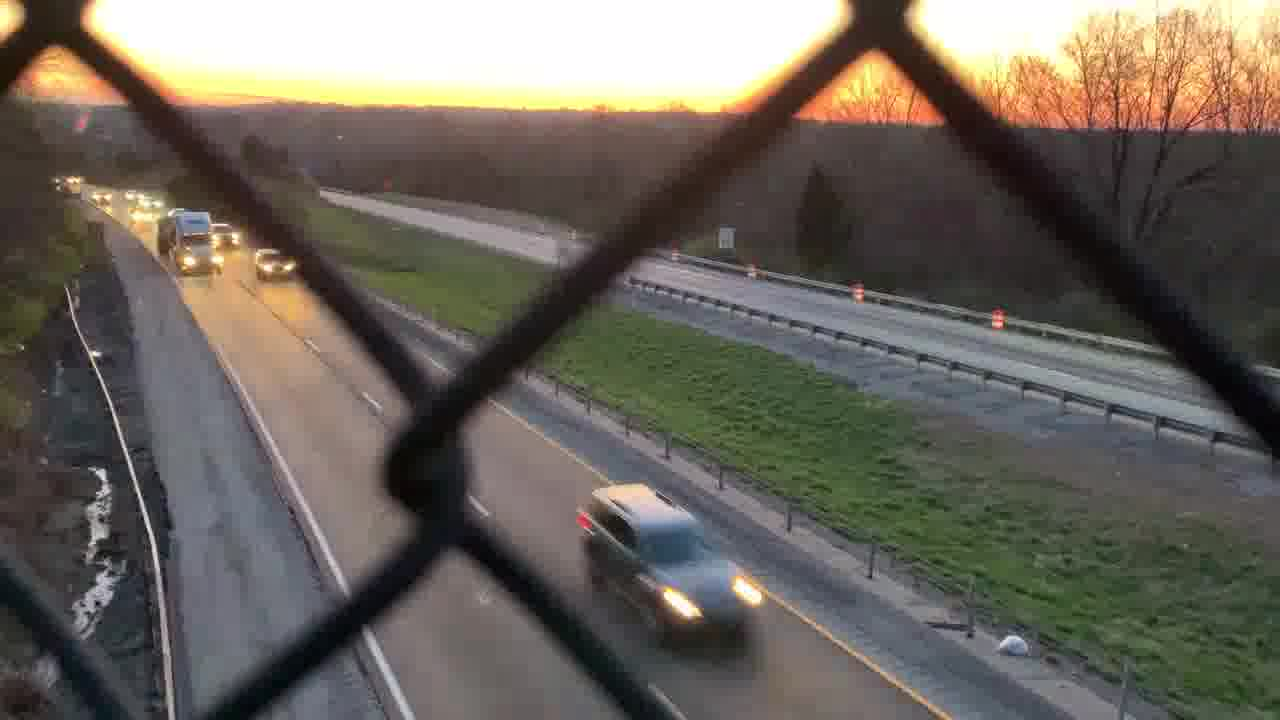largeCar: (584, 480, 764, 638)
